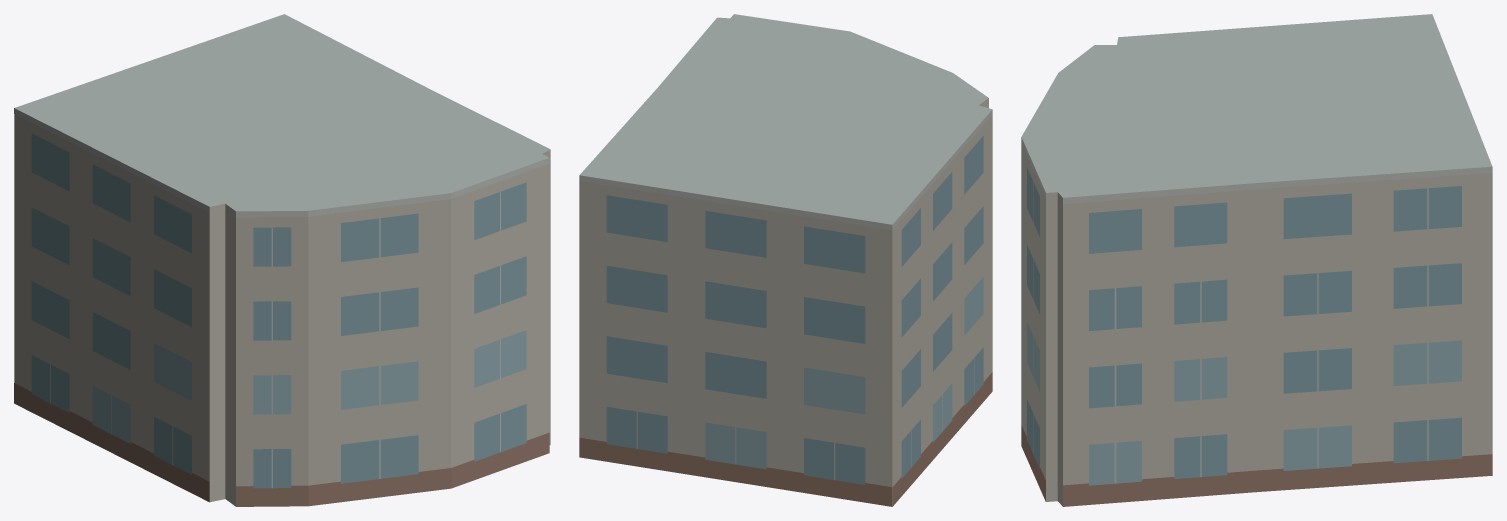
Rendered from survey-upis-32648618.glb.
3 views of the same model, side by side, from view 1: azimuth 30°, elevation 25°; view 2: azimuth 150°, elevation 25°; view 3: azimuth 270°, elevation 25° (orthographic). The views are drawn at different scales.
Parts seen in each view (by area): view 1: survey-upis-32648618.tmp; view 2: survey-upis-32648618.tmp; view 3: survey-upis-32648618.tmp.
Boxes of the visible parts, box(x1,y1,x2,y2) form: survey-upis-32648618.tmp: box(14, 14, 550, 506); survey-upis-32648618.tmp: box(579, 14, 992, 506); survey-upis-32648618.tmp: box(1021, 14, 1492, 506).
Size of the model in its own units: 15.57 by 12.2 by 16.87.
